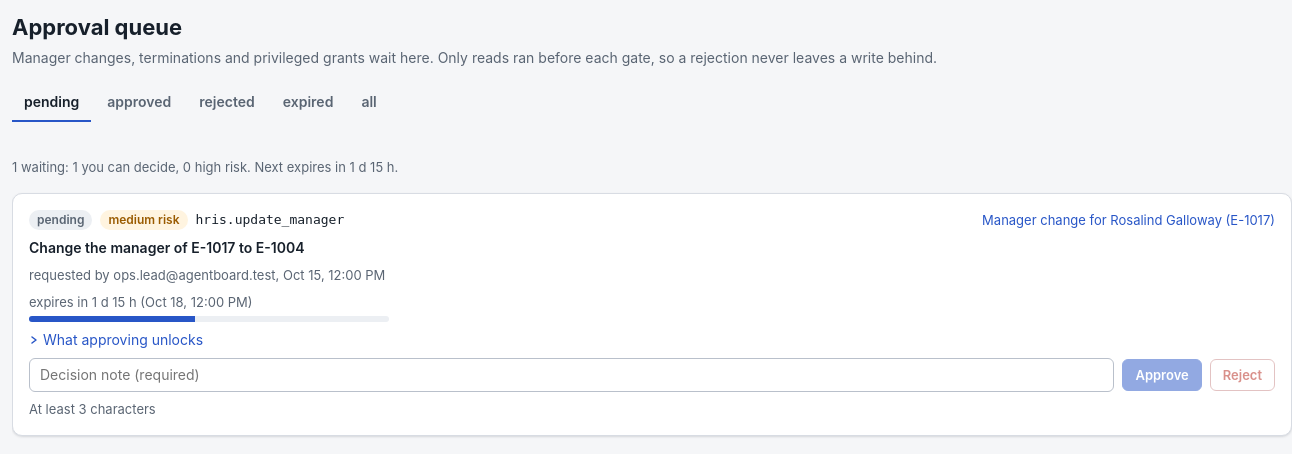
Test case: Approvals loading and failure states › clears the previous tab's cards as soon as another status tab is chosen
Expected: the text "Change the manager of E-1017 to E-1004" is shown, top-left (29, 239), bottom-right (304, 256)
What coordinates should you click on to do the following:
click the tab "rejected"
I would click on:
 (227, 103)
Its box is top-left (187, 84), bottom-right (267, 122).
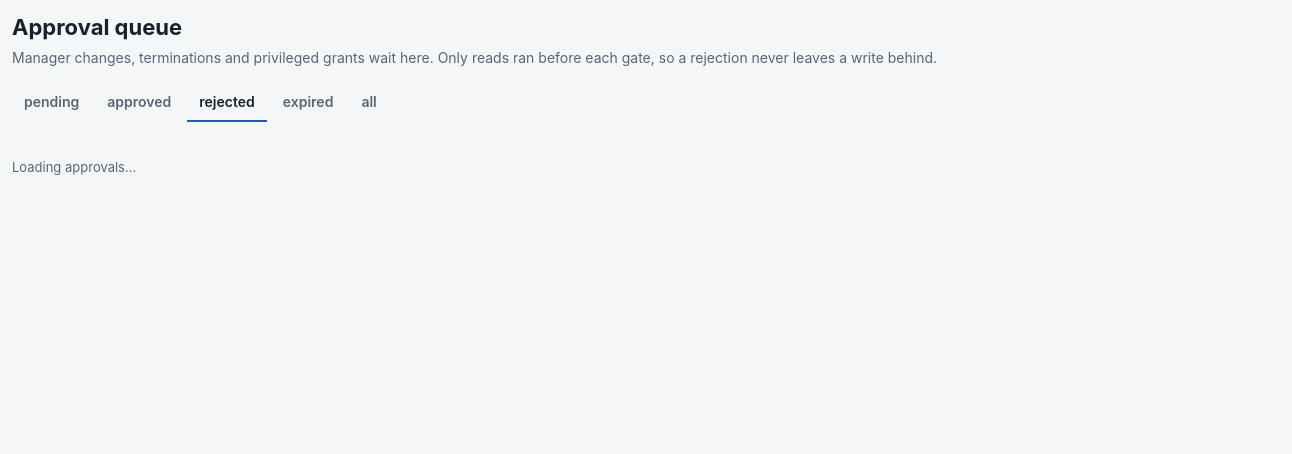
Expected: the text "Change the manager of E-1017 to E-1004" is gone
